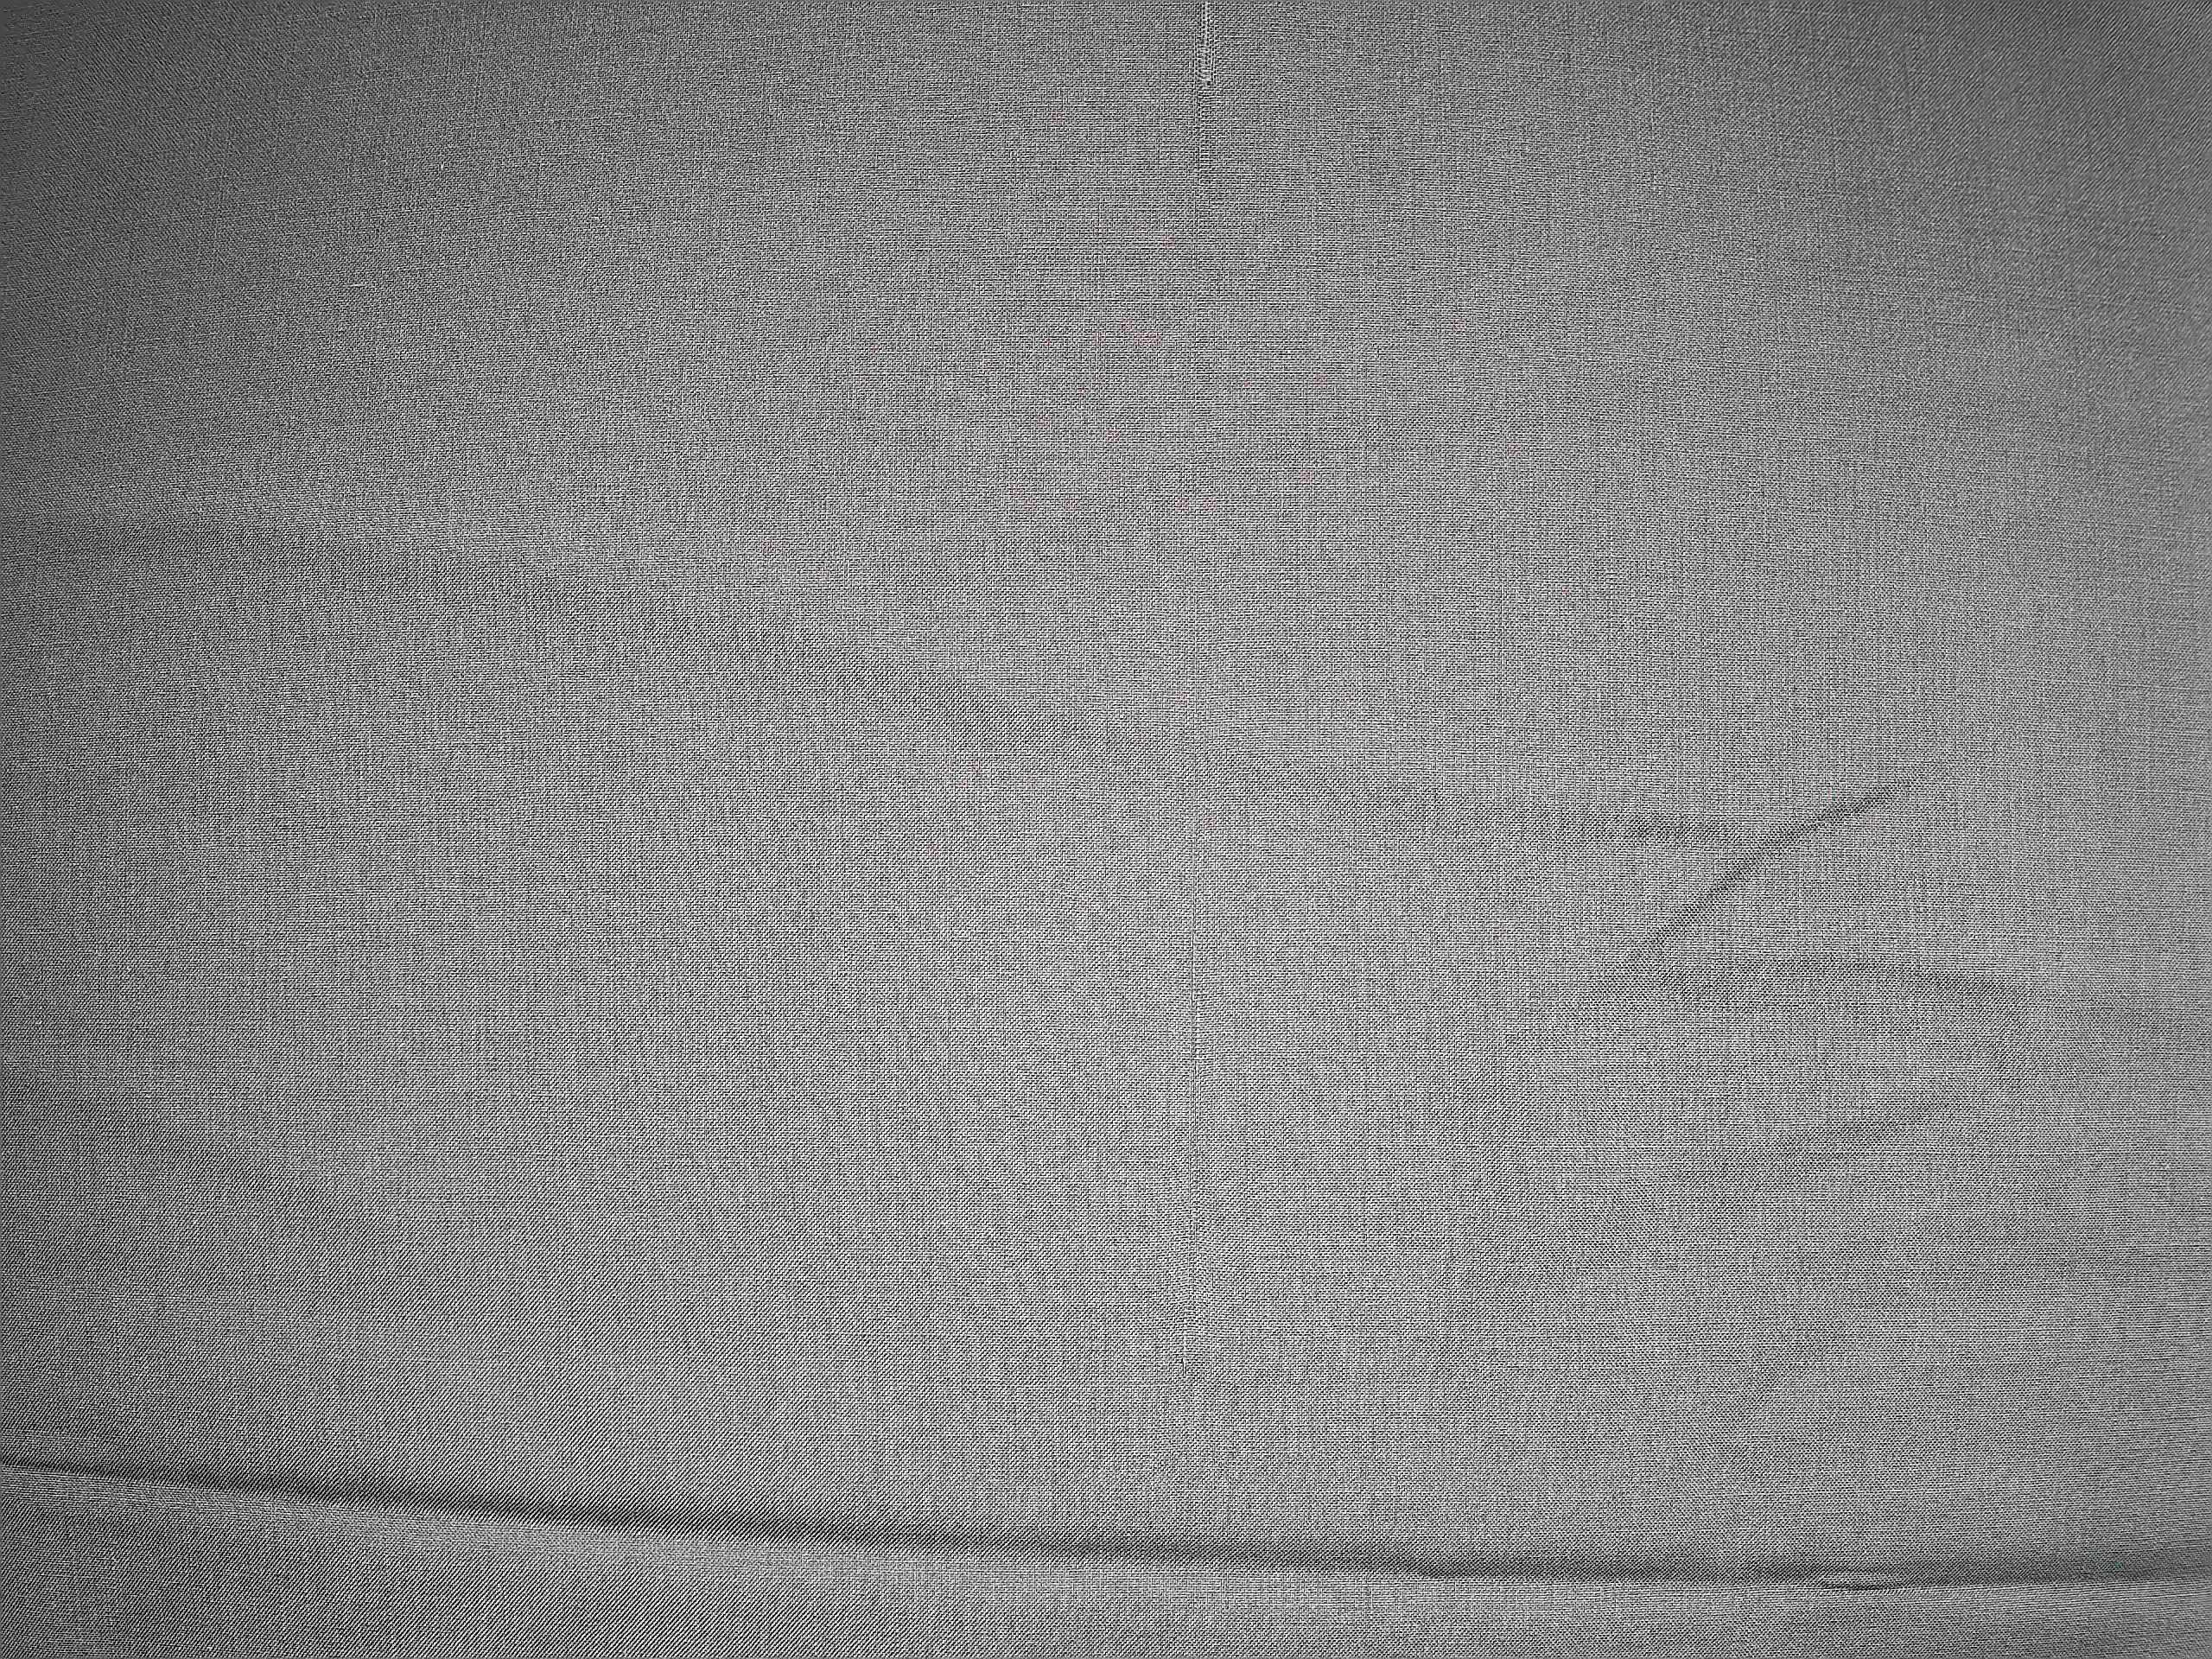hanging-warp: (1190, 0, 1228, 415)
